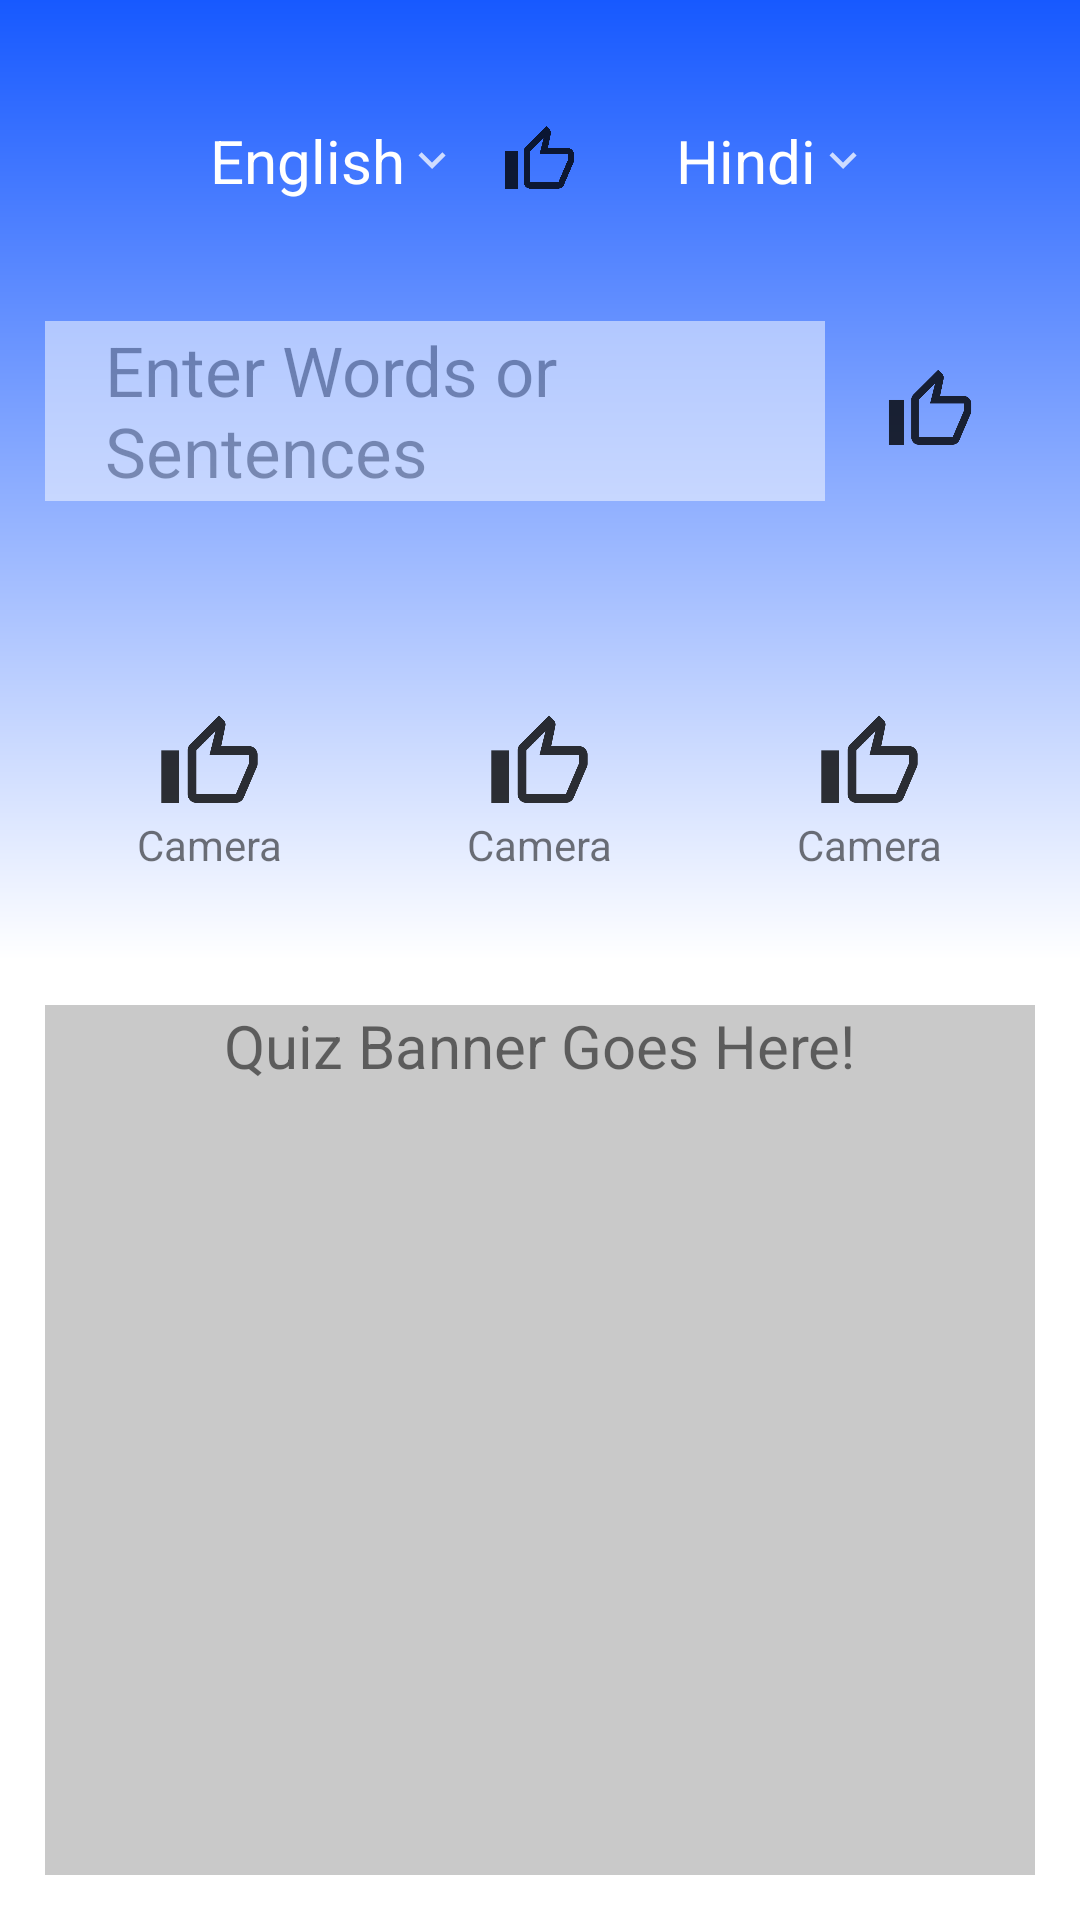

Icon click points for this 1080x1920 phone screenshot, format (x=x, y=y):
keyboard arrow down: (x=432, y=160), (x=843, y=160)
thumb up: (x=539, y=156), (x=930, y=407), (x=209, y=766), (x=539, y=766), (x=869, y=766)
